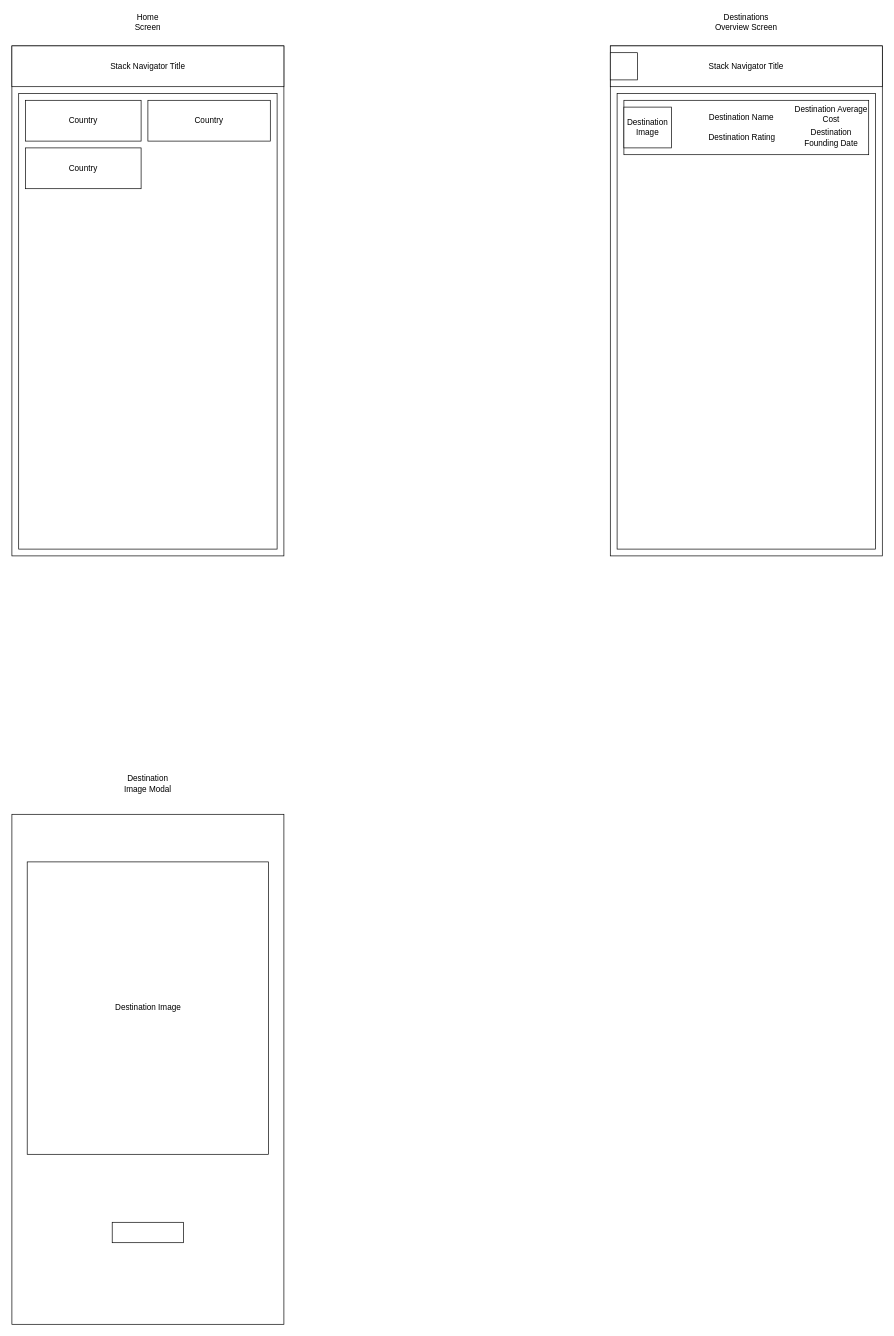
Some shapes in this 894 by 1336 pixel diagram are drawn without their labels. The shapes that lost their labels are listed below. From the top down, each one's box as (x1, y1, x2, y2) in pixels, then its label:
(610, 52, 638, 80): Return
(18, 93, 277, 549): Countries Flatlist (Utilizing CountryGridTile Component)
(616, 93, 876, 549): Destinations Flatlist (Utilizing DestinationItem Component)
(112, 1222, 184, 1243): Return Button
